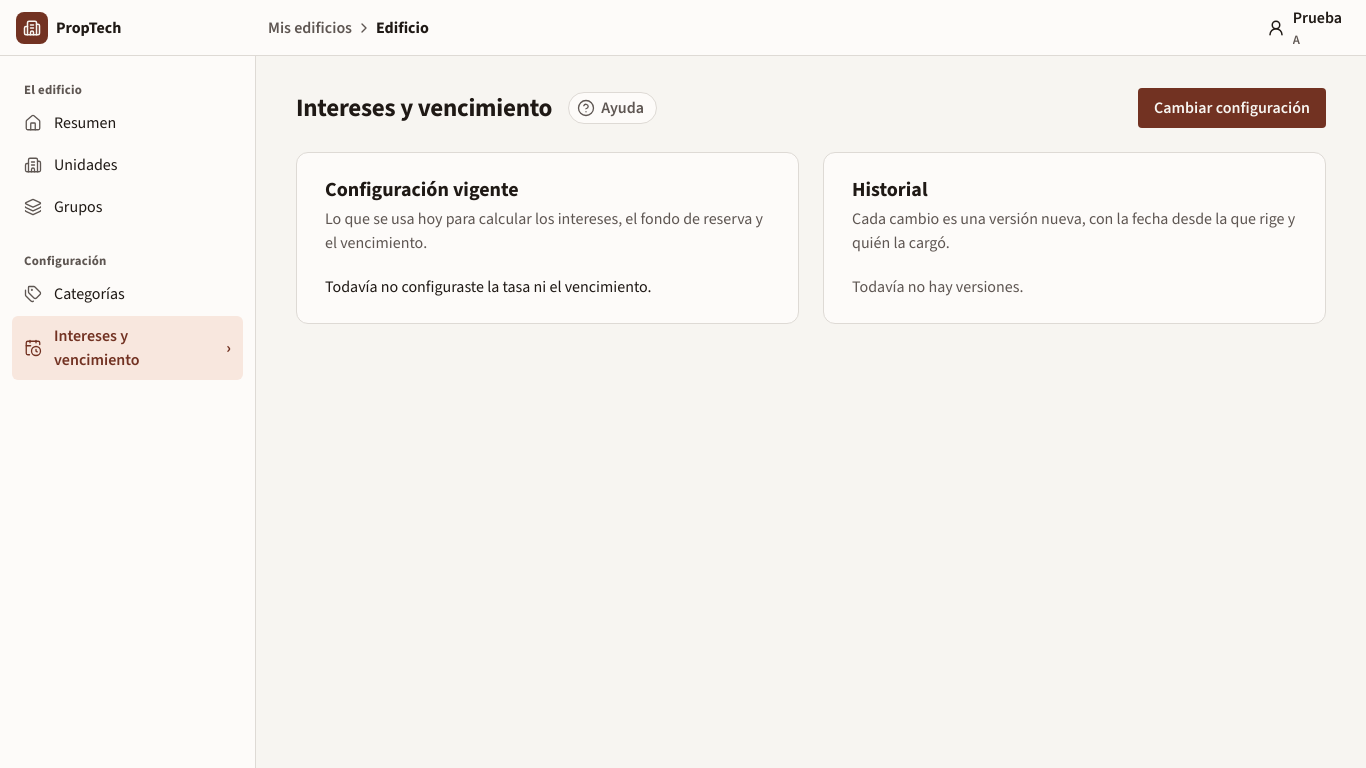
R2D-R1: permiso de versión permite cambiar y guardar
Click the button "Cambiar configuración".
click(1232, 108)  # box [1138,88,1326,128]
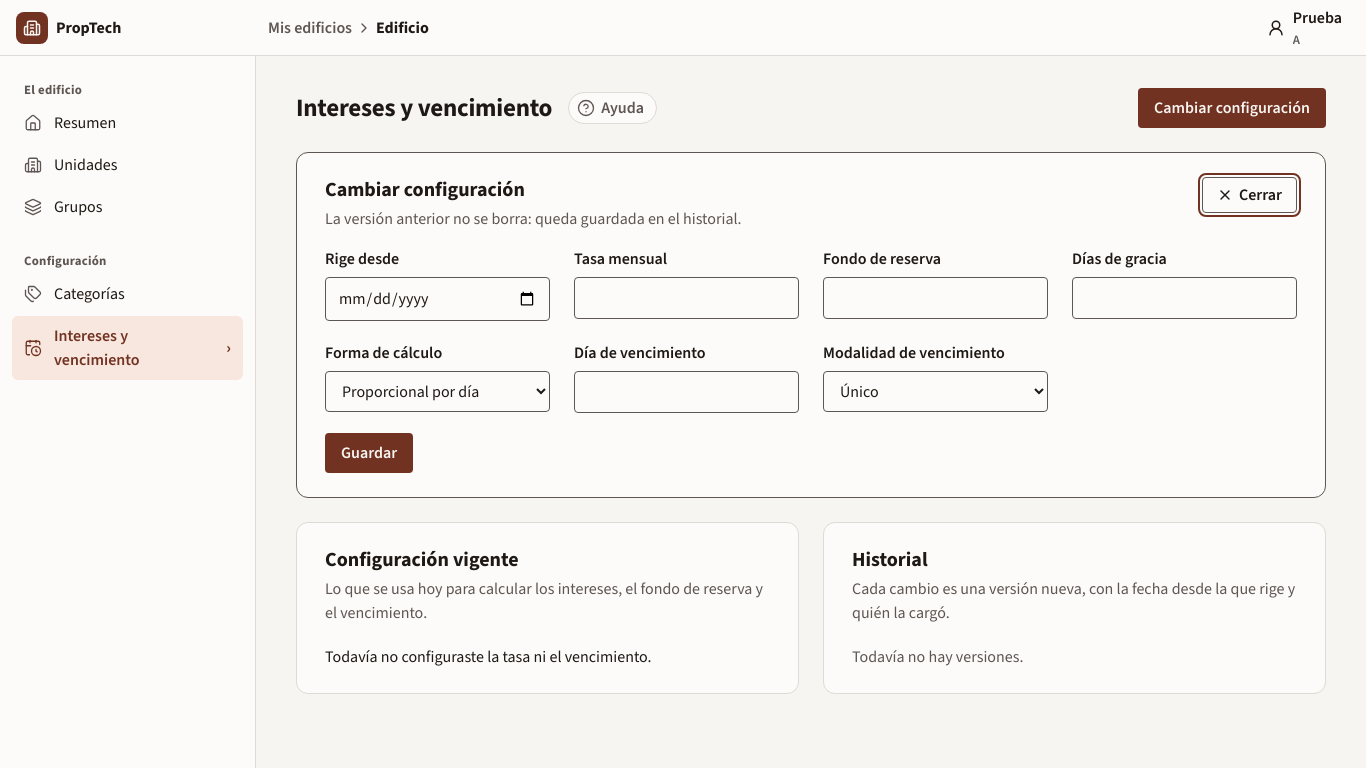
Expected: the button "Guardar" is shown, [325,433,413,473]
